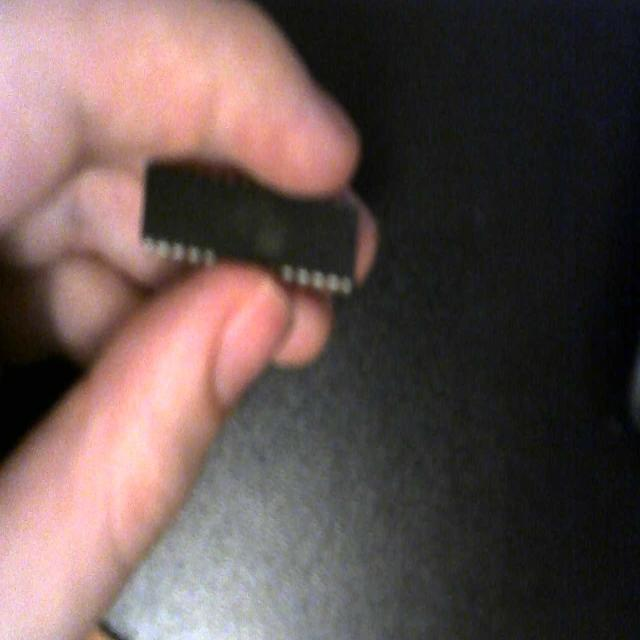atmega: (136, 152, 362, 304)
